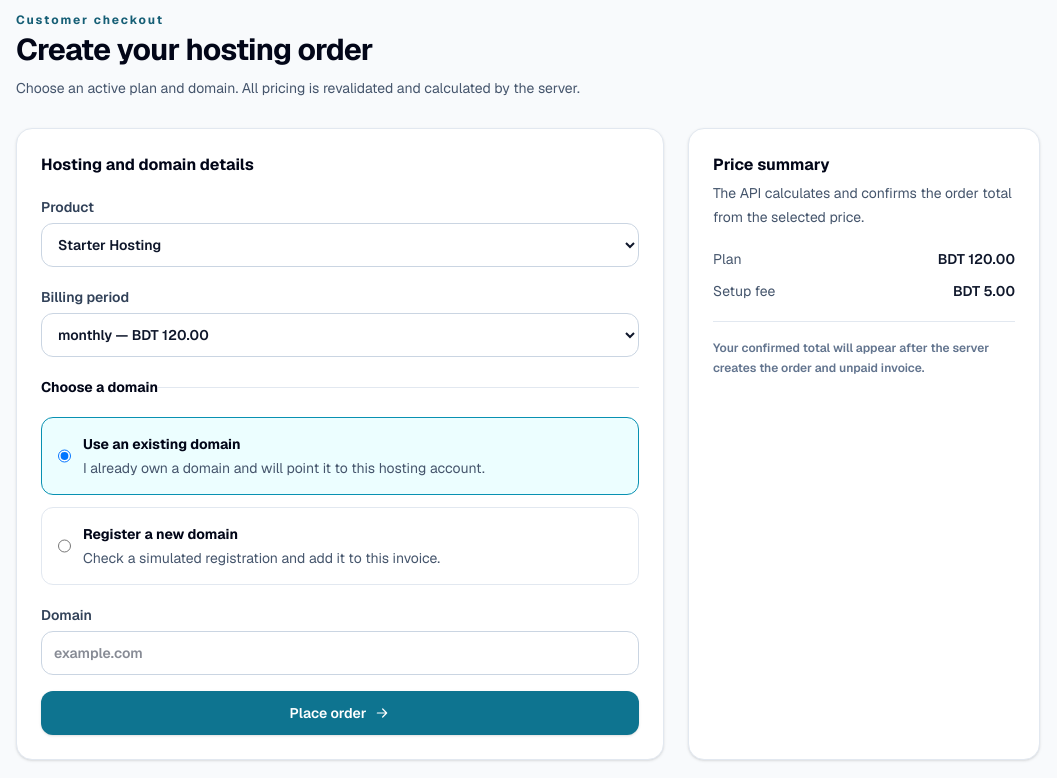
Test: order interfaces › submits only product, price, domain, and an idempotency key at checkout
Type "customer.example.test" into the field labelled "Domain" at (340, 653), box top-left (41, 631), bottom-right (639, 675)
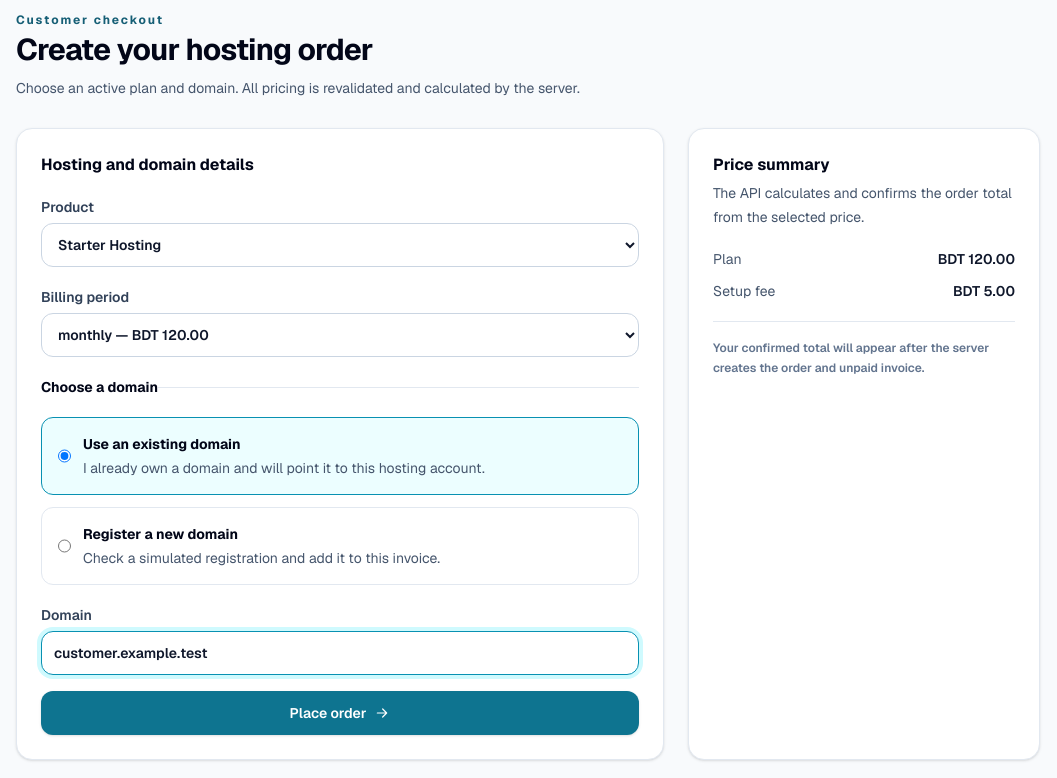
Click the button "Place order" at (340, 713), box top-left (41, 691), bottom-right (639, 735)
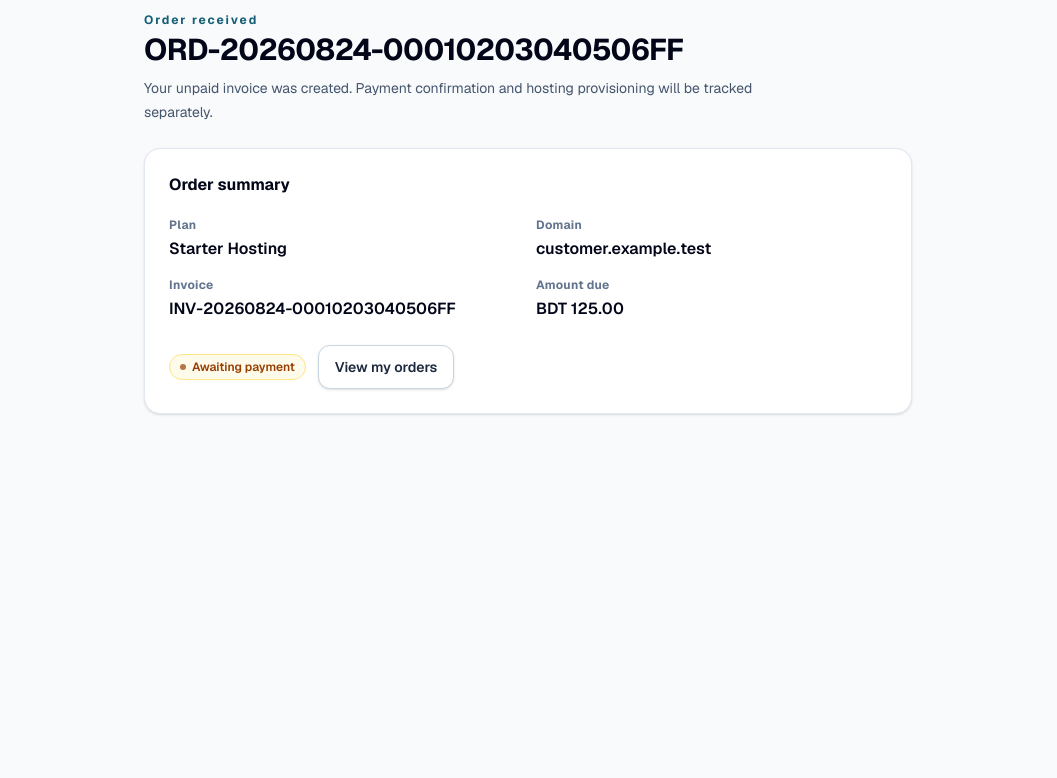
Expected: the heading "ORD-20260824-00010203040506FF" is shown, top-left (144, 30), bottom-right (683, 69)
